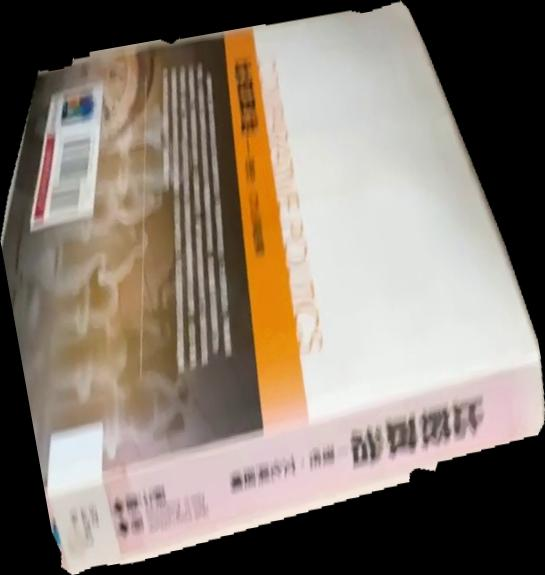flat: (1, 1, 545, 575)
